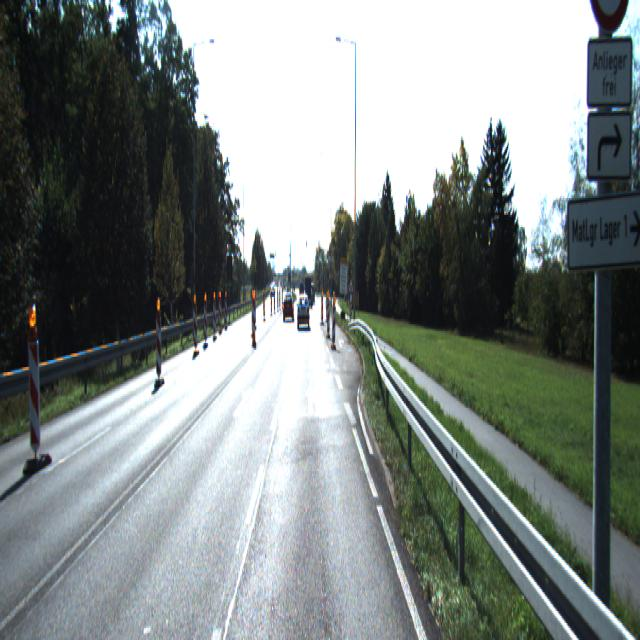Car: (298, 298, 310, 330), (284, 294, 295, 322)
